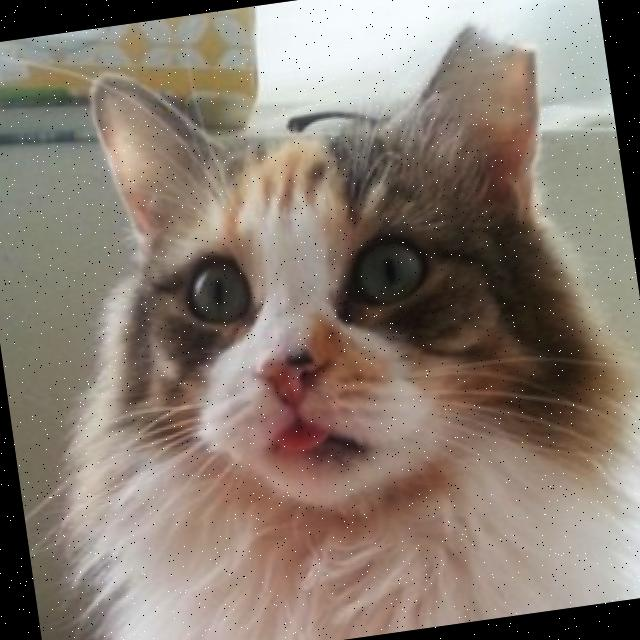Surprised: (122, 180, 513, 530)
